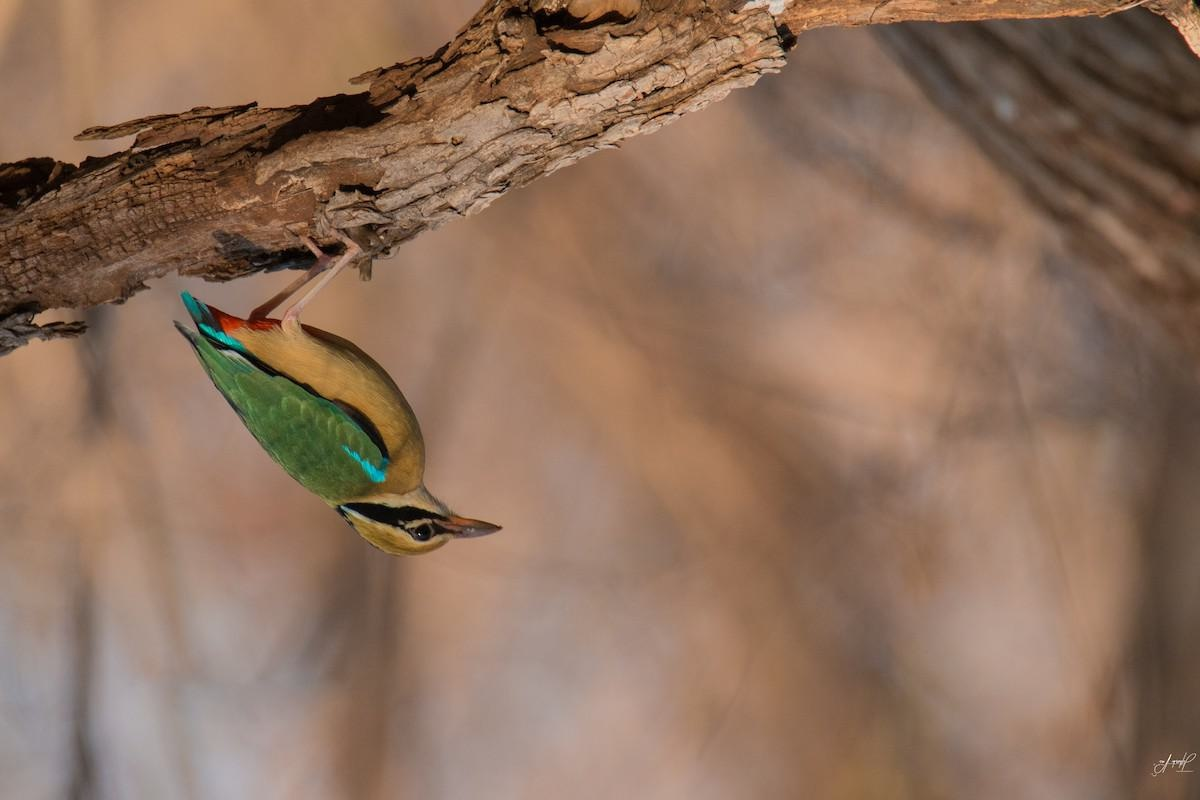pitta: (136, 224, 554, 583)
